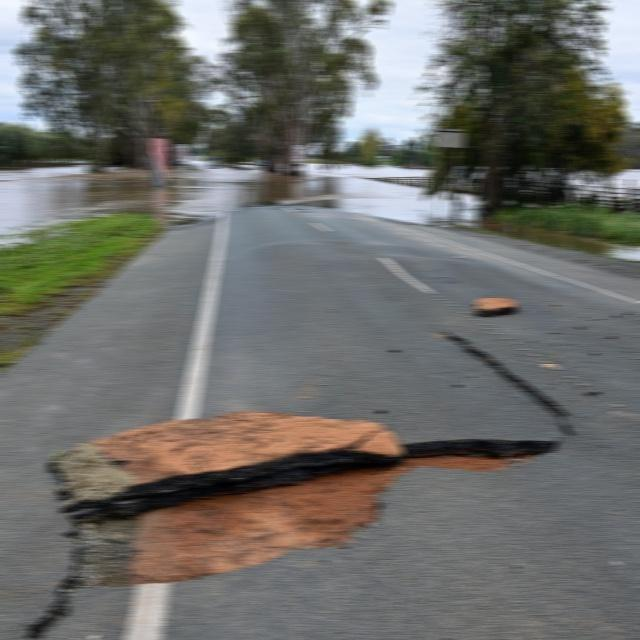Pothole: (20, 393, 568, 640), (435, 313, 577, 419)
